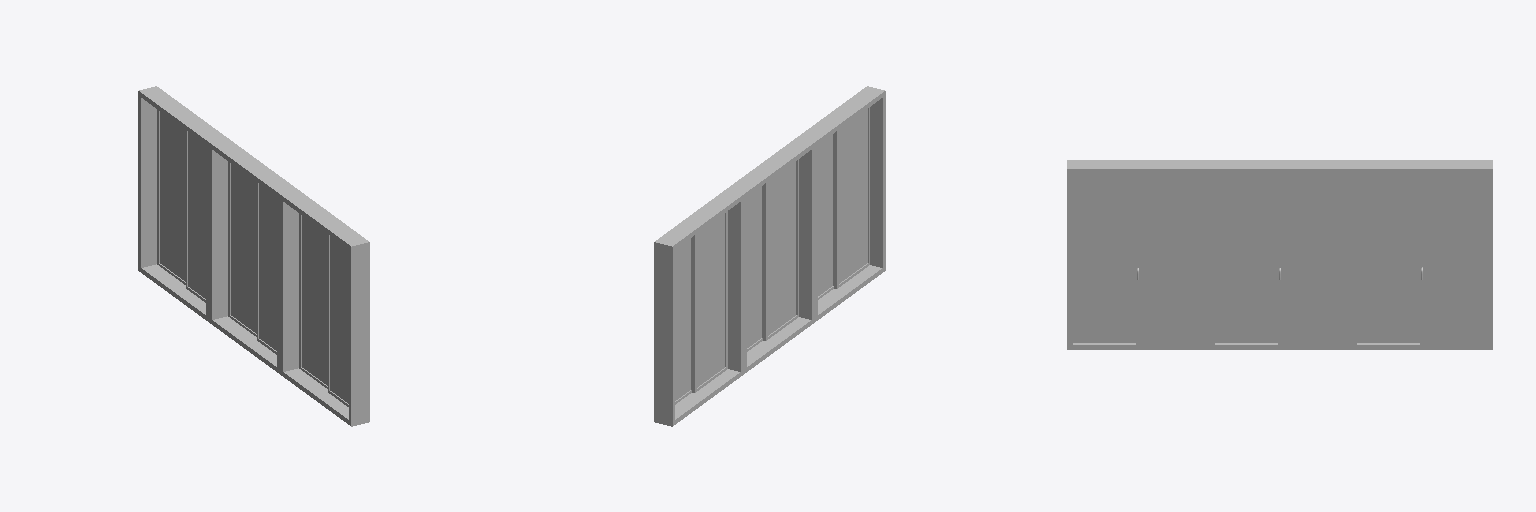
File: LV_outerDoor.obj
3 renders of one model, left to right at view 1: azimuth 30°, elevation 25°; view 2: azimuth 150°, elevation 25°; view 3: azimuth 270°, elevation 25°, orthographic.
Parts seen in each view (by area): view 1: 399; view 2: 399; view 3: 399.
Boxes of the visible parts, box(x1,y1,x2,y2) form: 399: box(138, 86, 369, 426); 399: box(654, 86, 885, 426); 399: box(1067, 160, 1492, 349).
Size of the model in its own units: 0.4397 by 3.42 by 7.33.